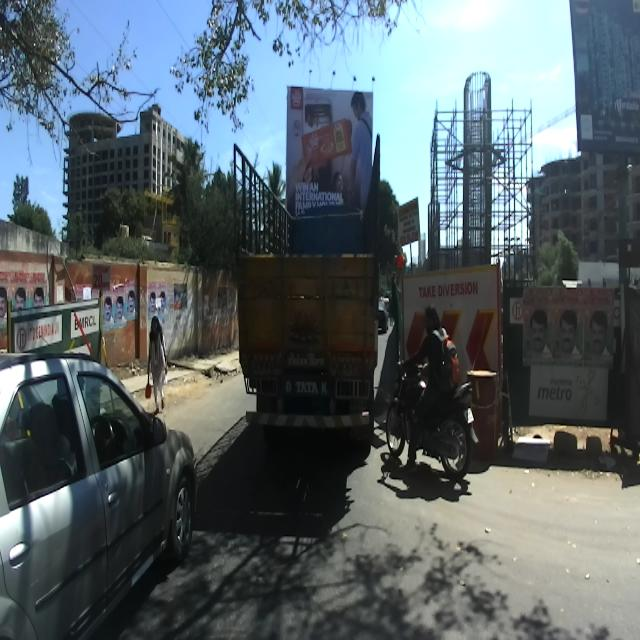car ahead at: (0, 338, 198, 636)
motorcycle ahead at: (386, 376, 484, 492)
truck ahead at: (226, 139, 384, 441)
